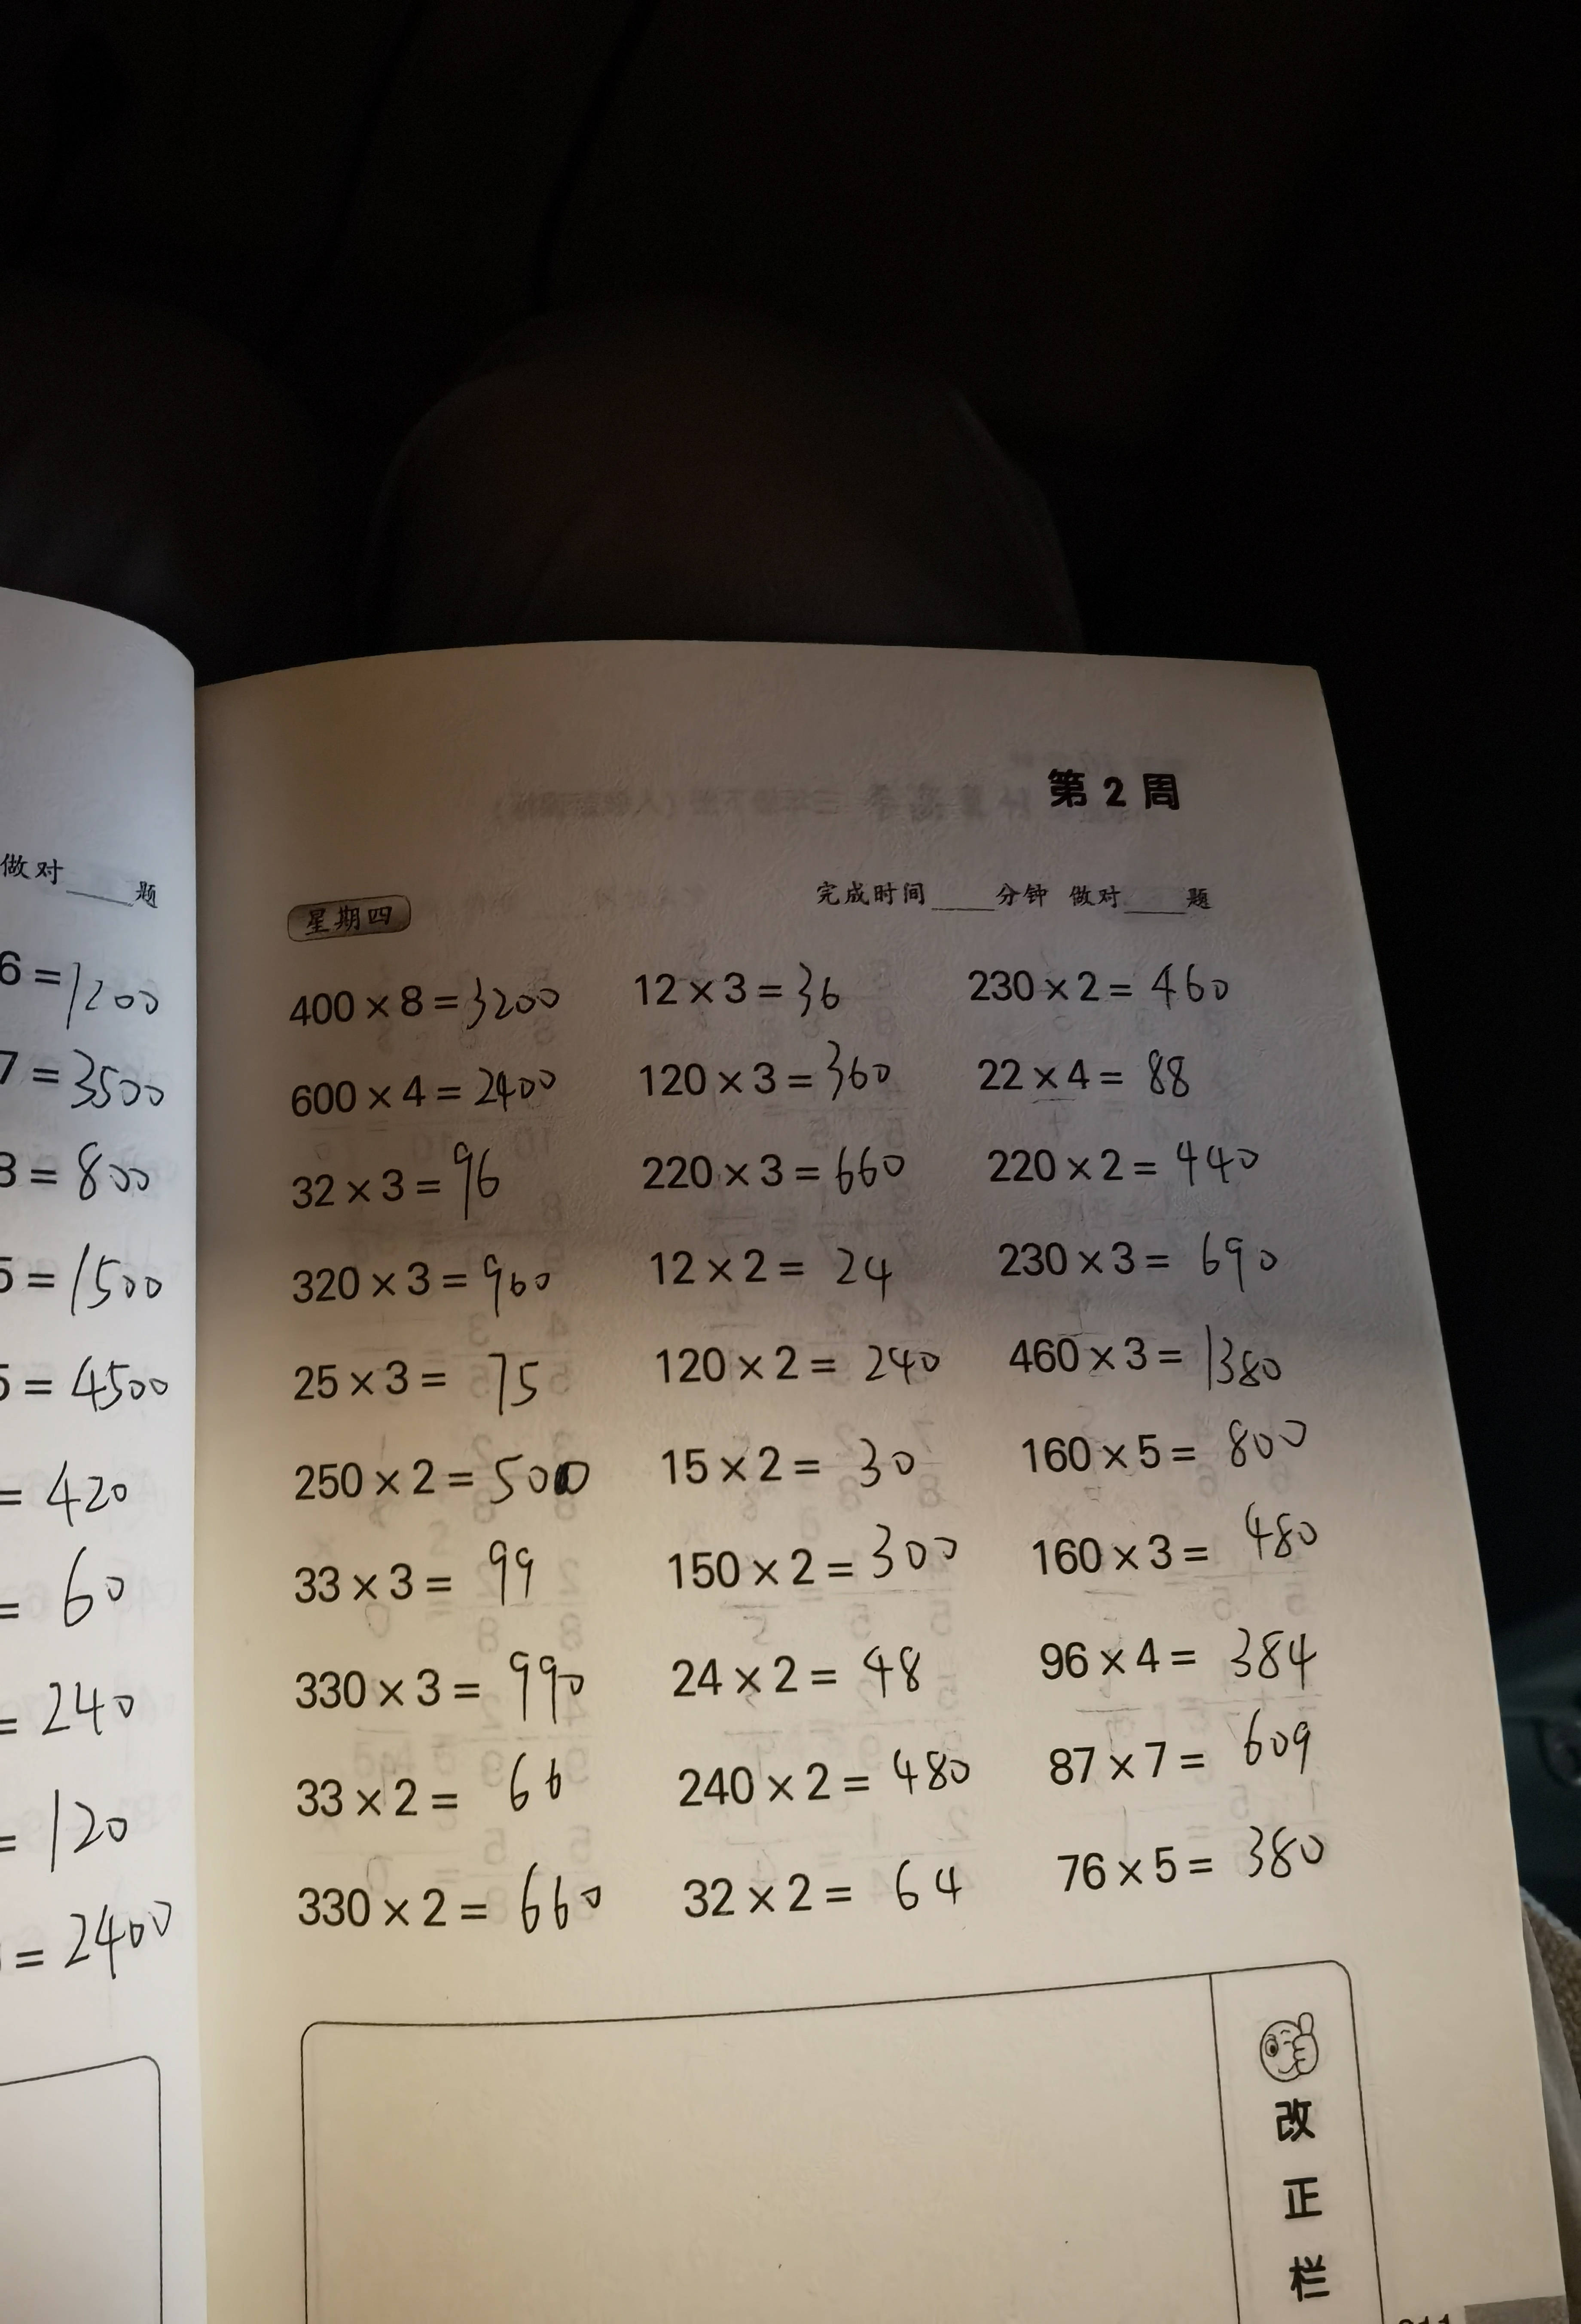equation: (279, 1851, 653, 1960), (646, 1323, 988, 1424), (660, 1511, 979, 1613), (1025, 1609, 1359, 1699), (667, 1735, 990, 1826), (281, 1648, 623, 1735), (1029, 1496, 1357, 1586), (635, 1216, 932, 1315), (1059, 1821, 1403, 1904), (653, 1627, 960, 1719), (671, 1849, 976, 1939), (653, 1431, 948, 1523), (282, 1443, 603, 1523), (1045, 1712, 1357, 1793), (997, 1315, 1309, 1394), (955, 937, 1260, 1018), (258, 1761, 618, 1830), (1018, 1413, 1330, 1488), (266, 963, 593, 1034), (281, 1541, 582, 1616), (630, 1133, 930, 1209), (279, 1140, 533, 1226), (983, 1138, 1330, 1200), (259, 1353, 573, 1417), (970, 1038, 1242, 1110), (981, 1225, 1290, 1288), (286, 1251, 565, 1318), (633, 1039, 900, 1101), (621, 960, 861, 1025), (279, 1066, 572, 1115)
